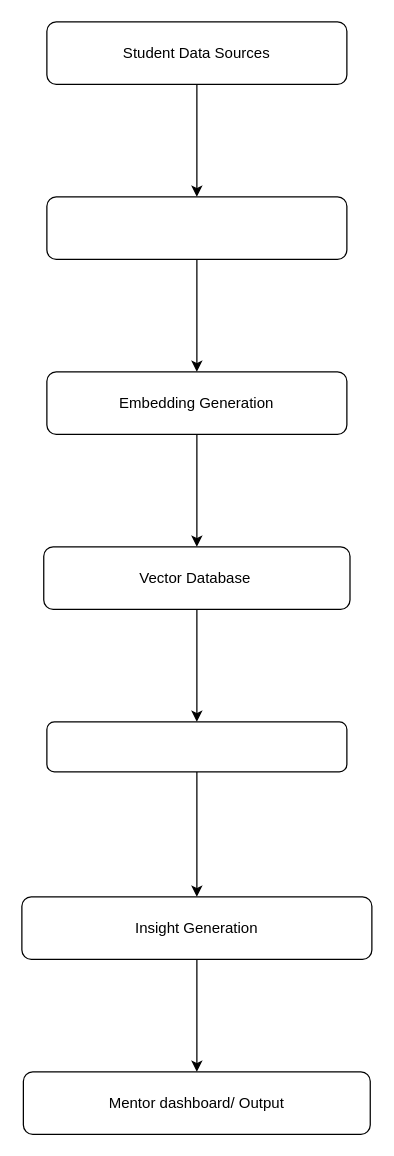
Some shapes in this 394 by 1156 pixel diagram are drawn without their labels. Here are the shapes that lost their labels. From the top down, the centre of each, then its label:
pixel 196 227: Data Processing Layer
pixel 196 746: RAG Pipeline( Retriever + LLM)
